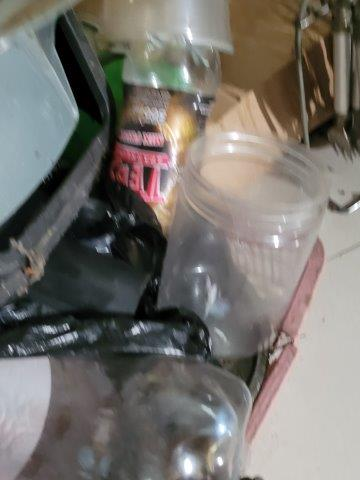botolplastik: (118, 34, 217, 228)
